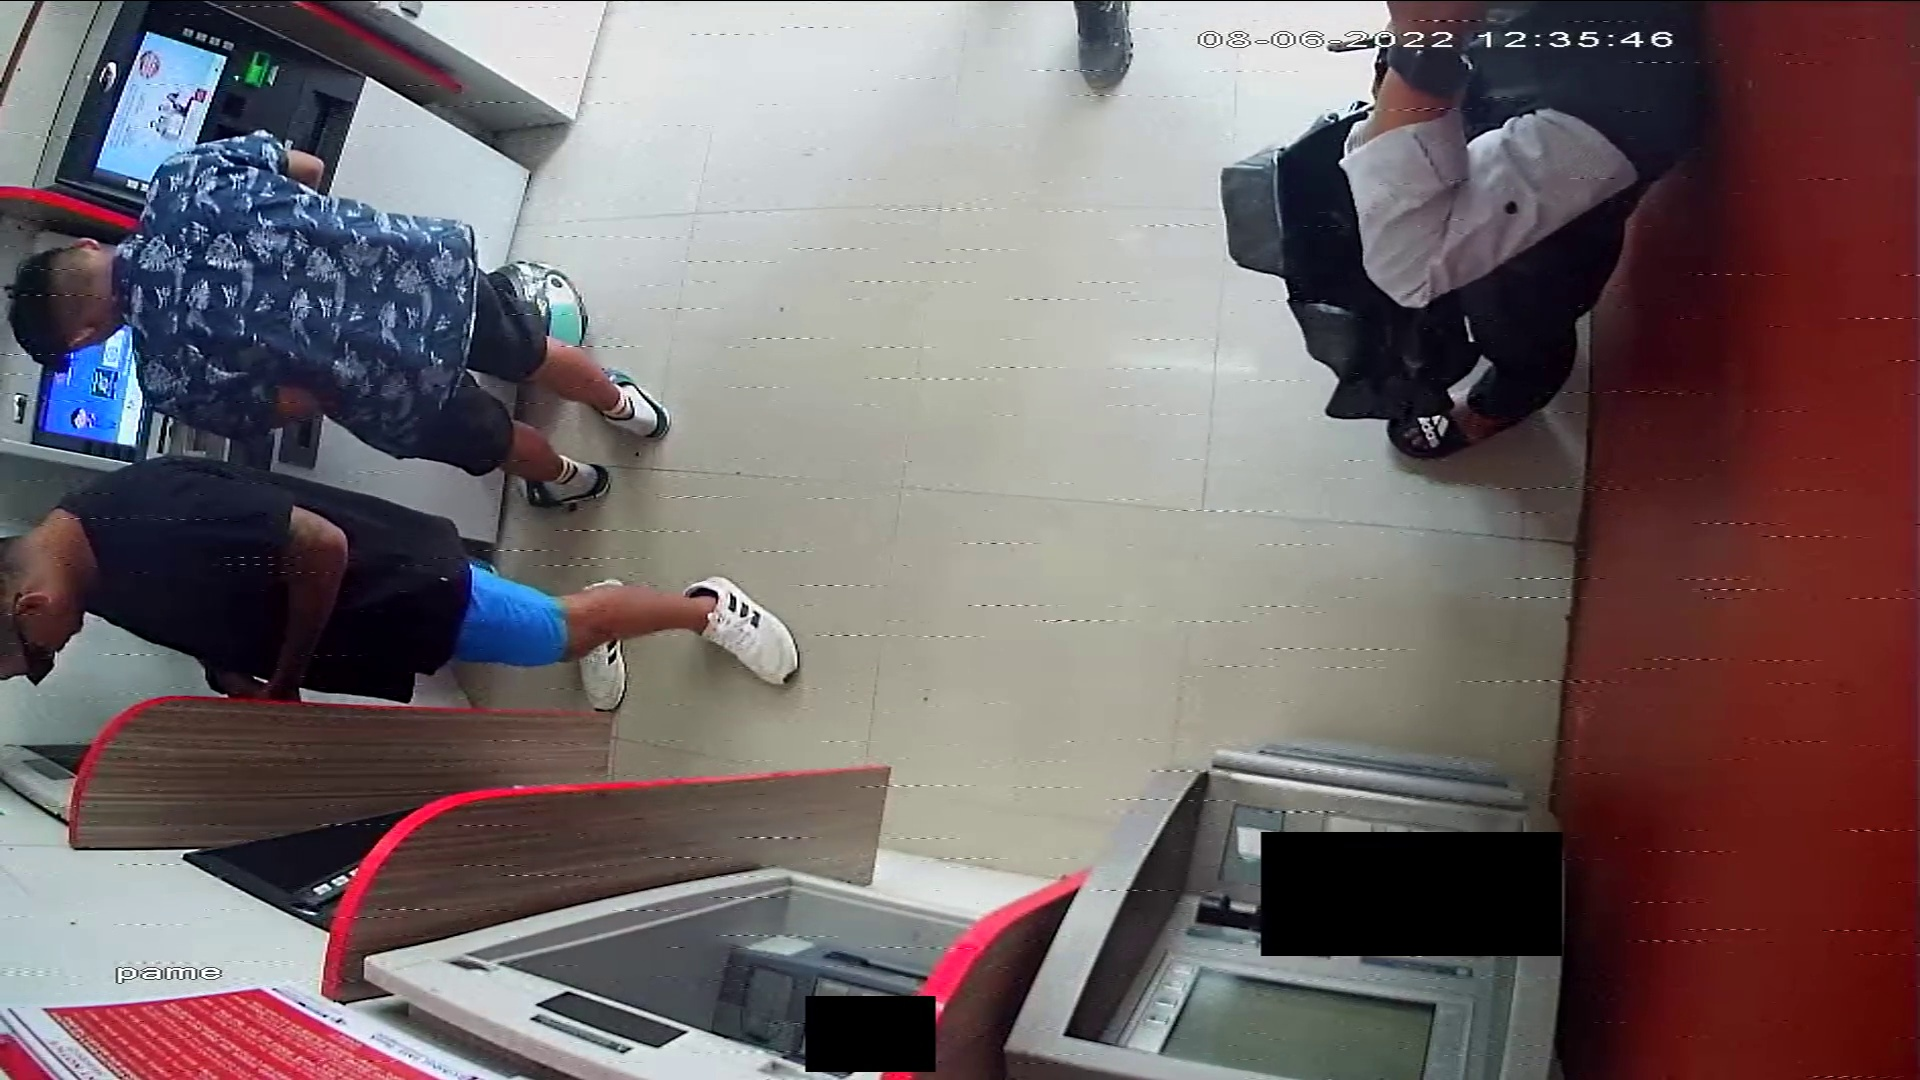helmet: (486, 258, 591, 349)
person: (7, 128, 667, 510), (1, 452, 805, 704), (1347, 4, 1709, 466)
